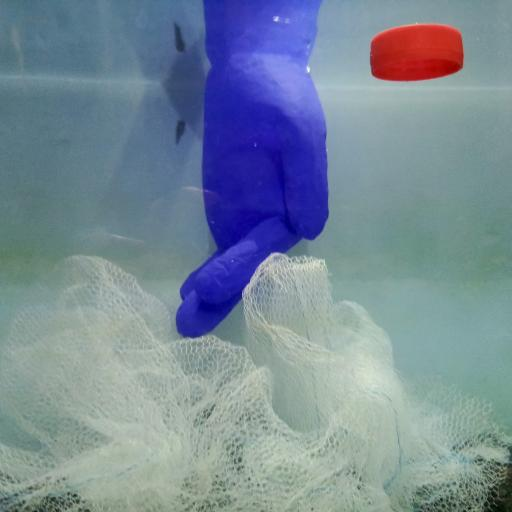bottle_cap: (369, 22, 465, 81)
glove: (176, 12, 332, 341)
net: (1, 248, 512, 512)
